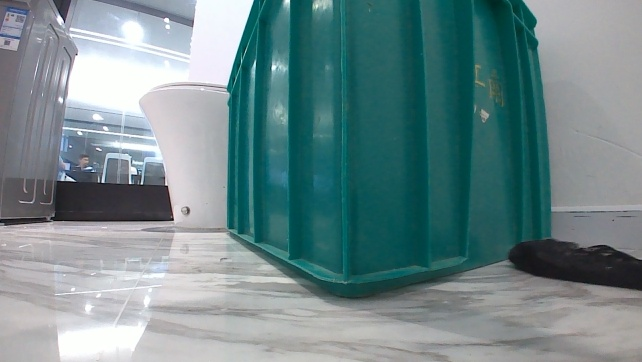socks: (504, 235, 641, 291)
toilet: (135, 76, 234, 231)
washing_machine1: (0, 0, 82, 225)
